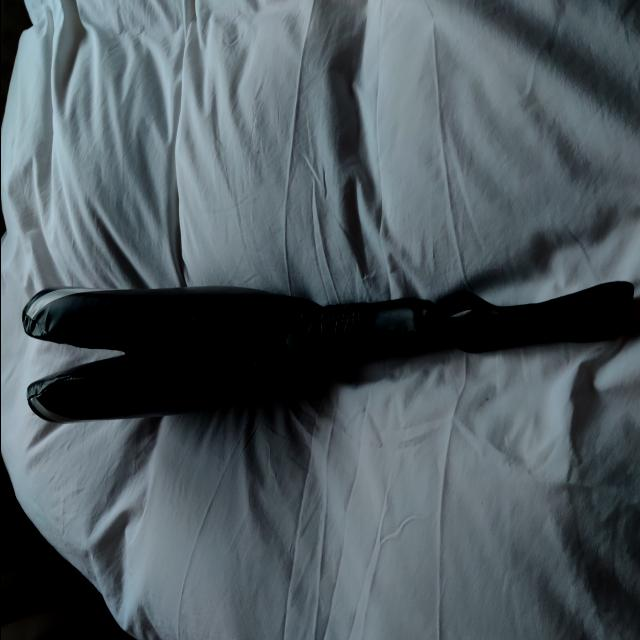paddle: (19, 282, 443, 426)
